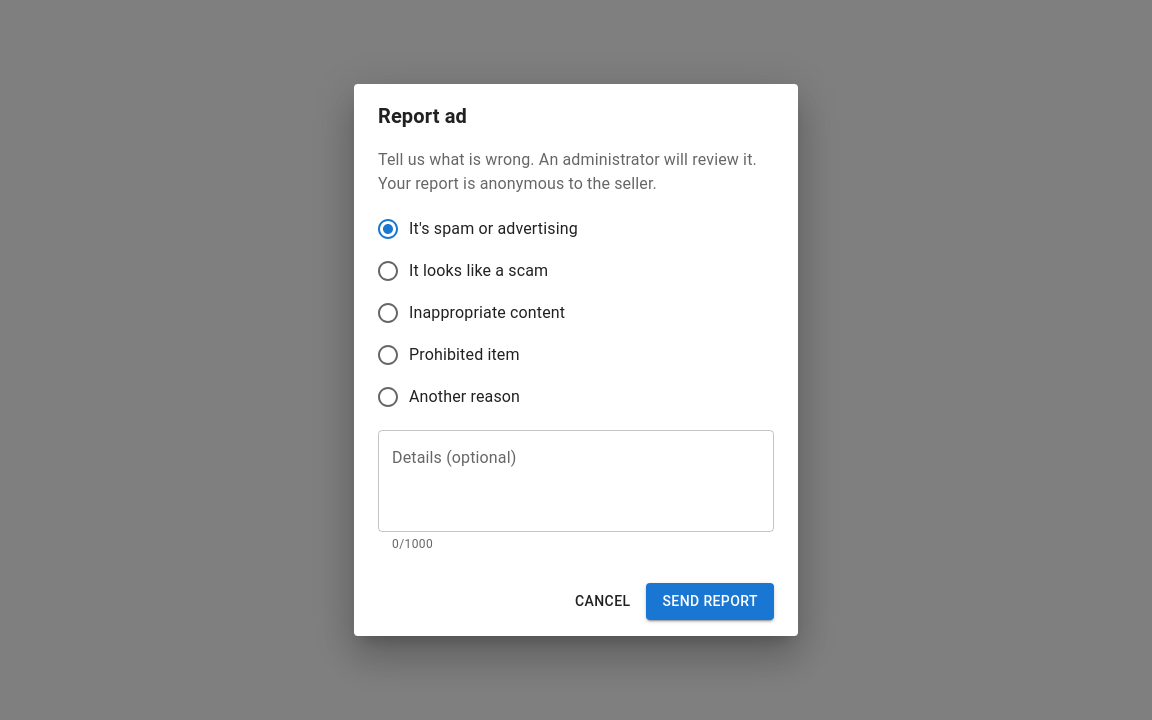
it: ReportDialog › shows what the API says (for example, that it was already reported) and stays open
Click the button "Send report" at [710, 601], box [646, 583, 774, 620]
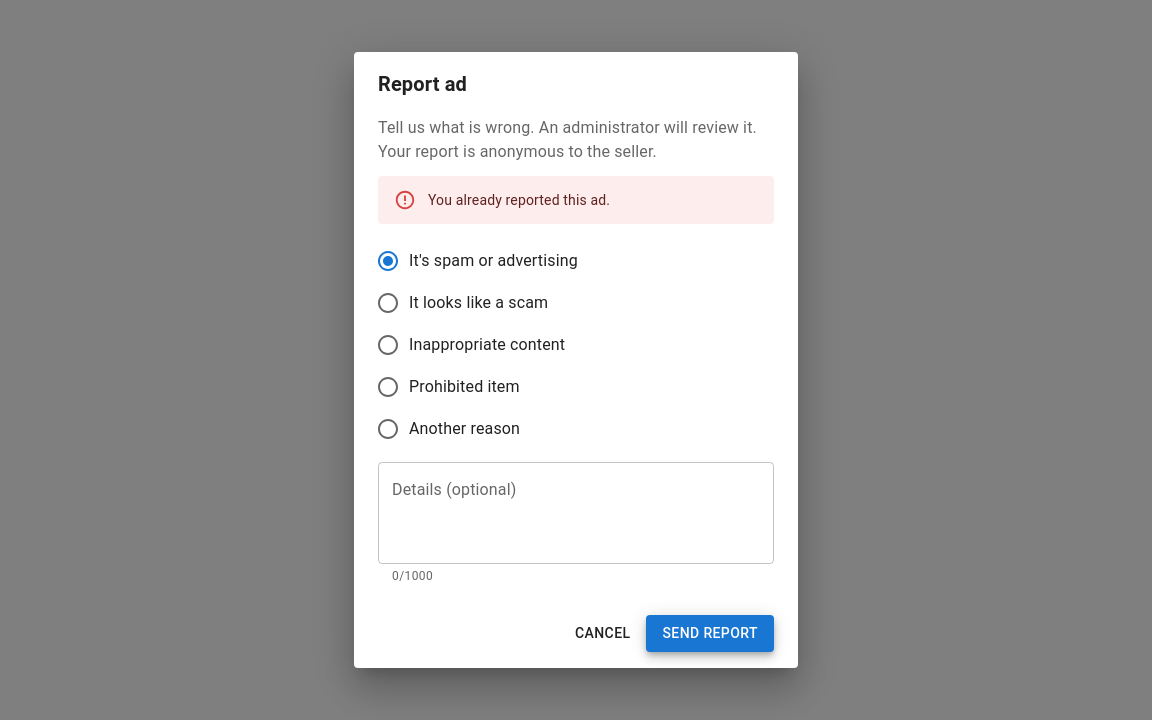
Now the text "You already reported this ad." is shown, box [428, 190, 610, 210]
